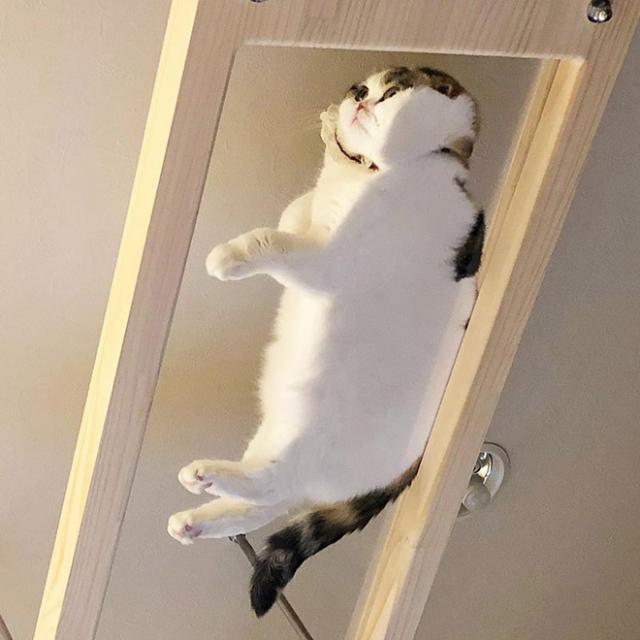cat: (208, 56, 484, 488)
